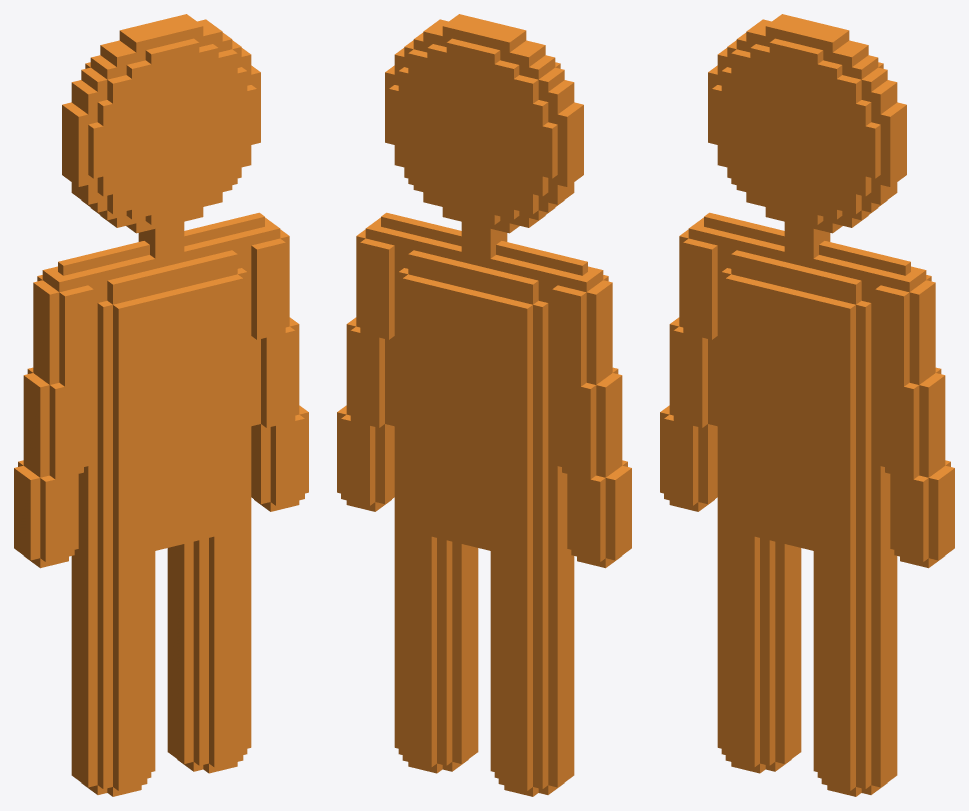
File: teapot-0.obj
3 views of the same model, side by side, from view 1: azimuth 30°, elevation 25°; view 2: azimuth 150°, elevation 25°; view 3: azimuth 330°, elevation 25° (orthographic).
Size of the model in its own units: 2.9 by 7.4 by 0.7.
1 material, 1 textured.
